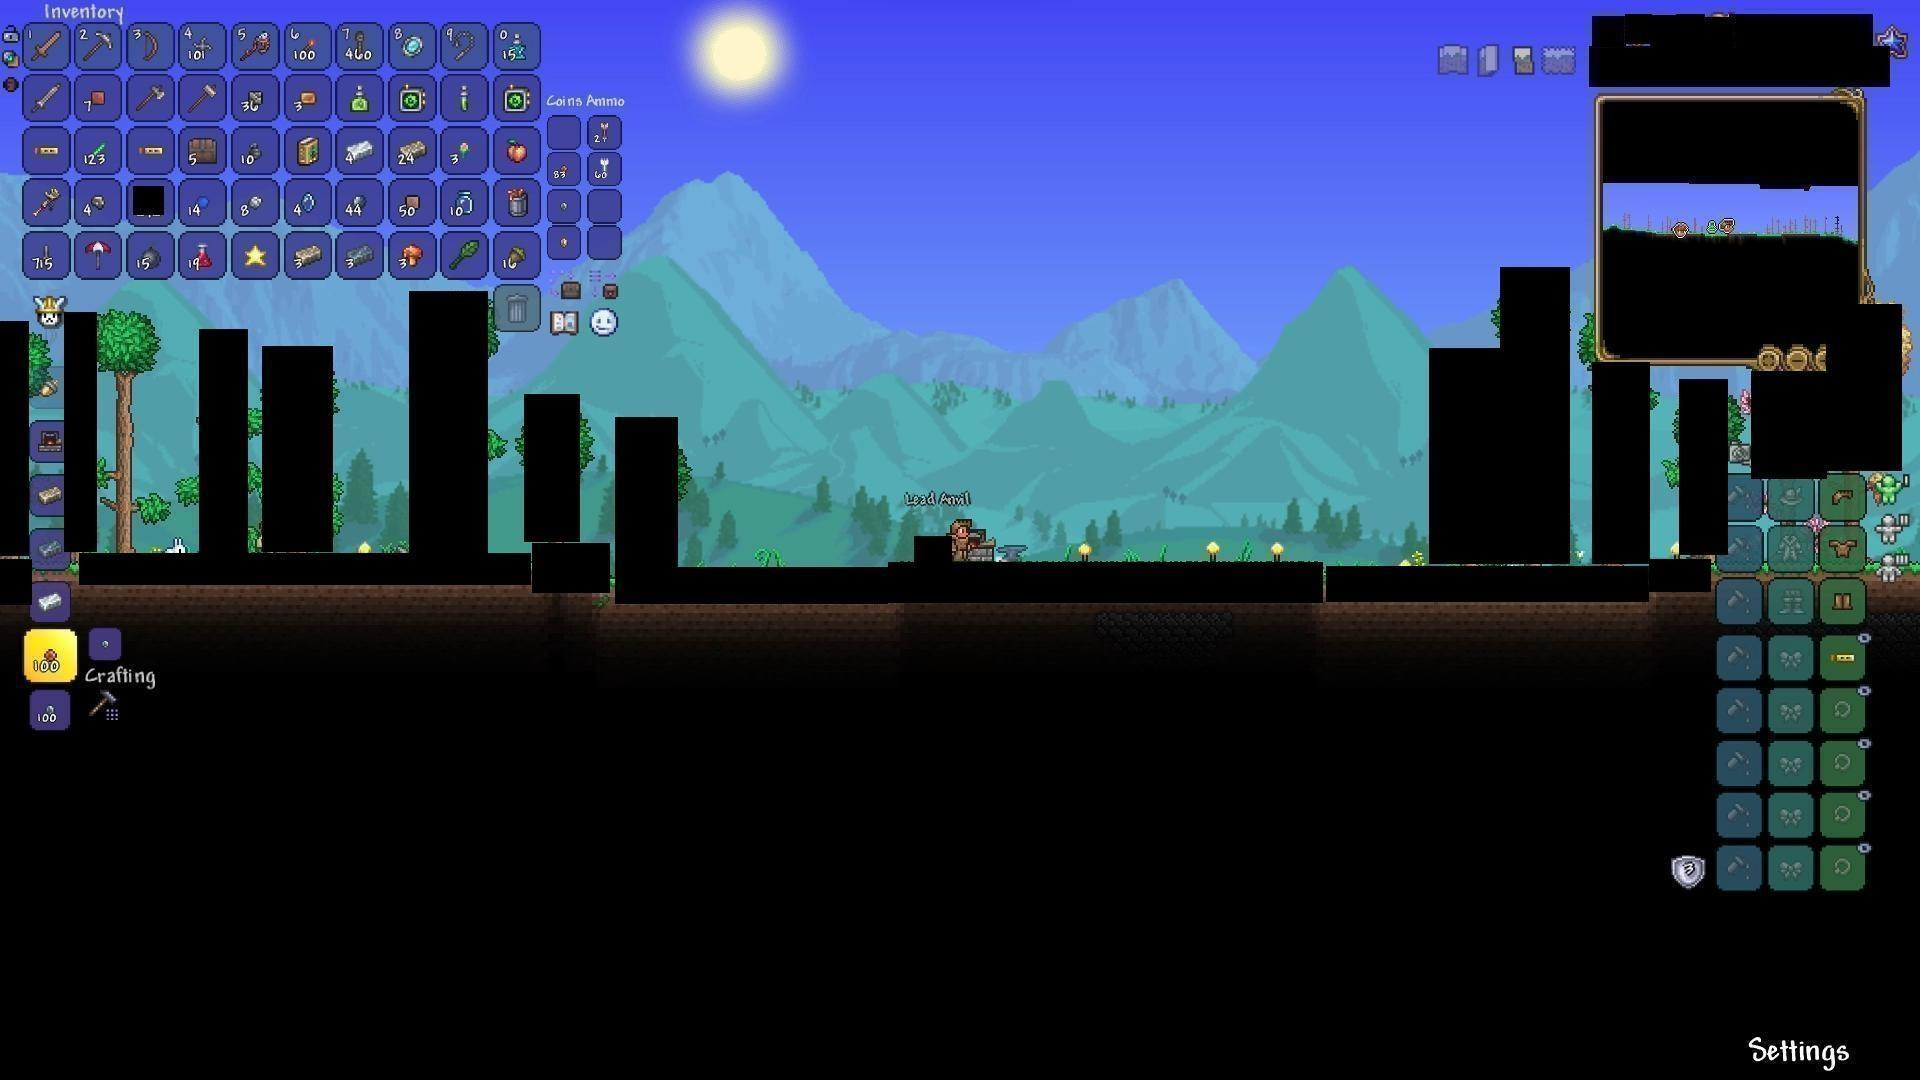breastplate: (1830, 538, 1858, 558)
helmet: (1829, 485, 1857, 510)
legs: (1830, 589, 1857, 615)
tree: (99, 299, 160, 551)
